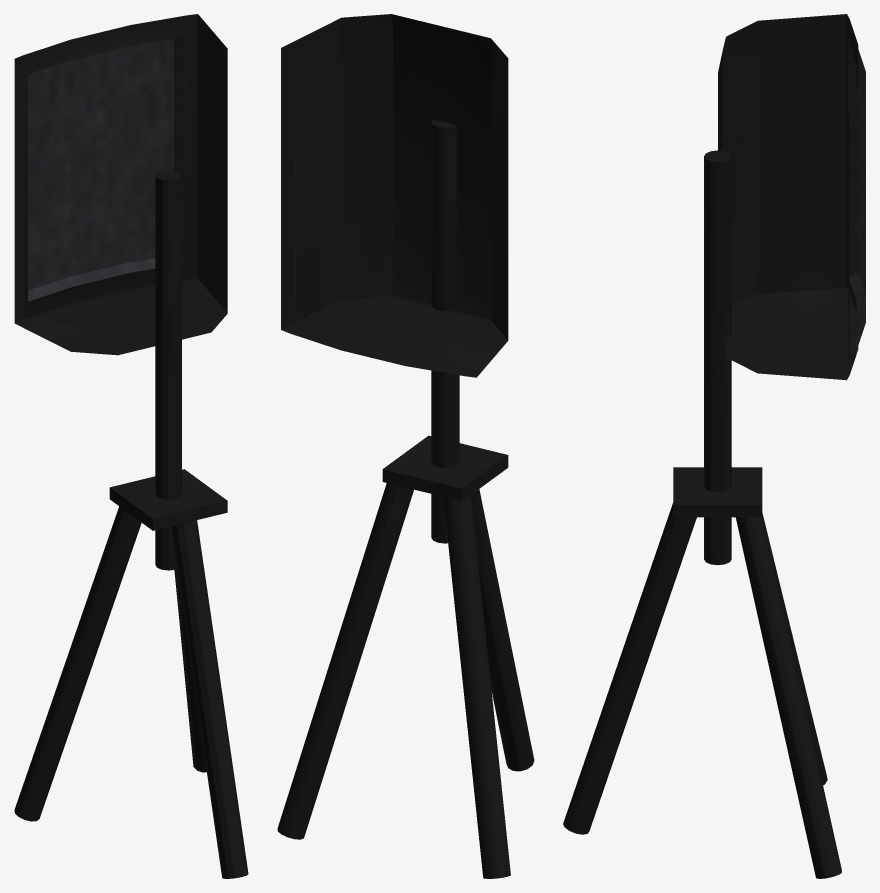
The model's file is SM_Caixa Som.fbx.
The picture shows the model from 3 angles, left to right: view 1: azimuth 30°, elevation 25°; view 2: azimuth 150°, elevation 25°; view 3: azimuth 270°, elevation 25°; orthographic projection. The views are drawn at different scales.
Visible parts, largest first — view 1: SM_Caixa Som; view 2: SM_Caixa Som; view 3: SM_Caixa Som.
Part boxes in pixels (x1,y1,x2,y2): SM_Caixa Som: (14, 14, 248, 878); SM_Caixa Som: (277, 14, 534, 878); SM_Caixa Som: (563, 14, 865, 878).
Size of the model in its own units: 43.08 by 147 by 52.45.
